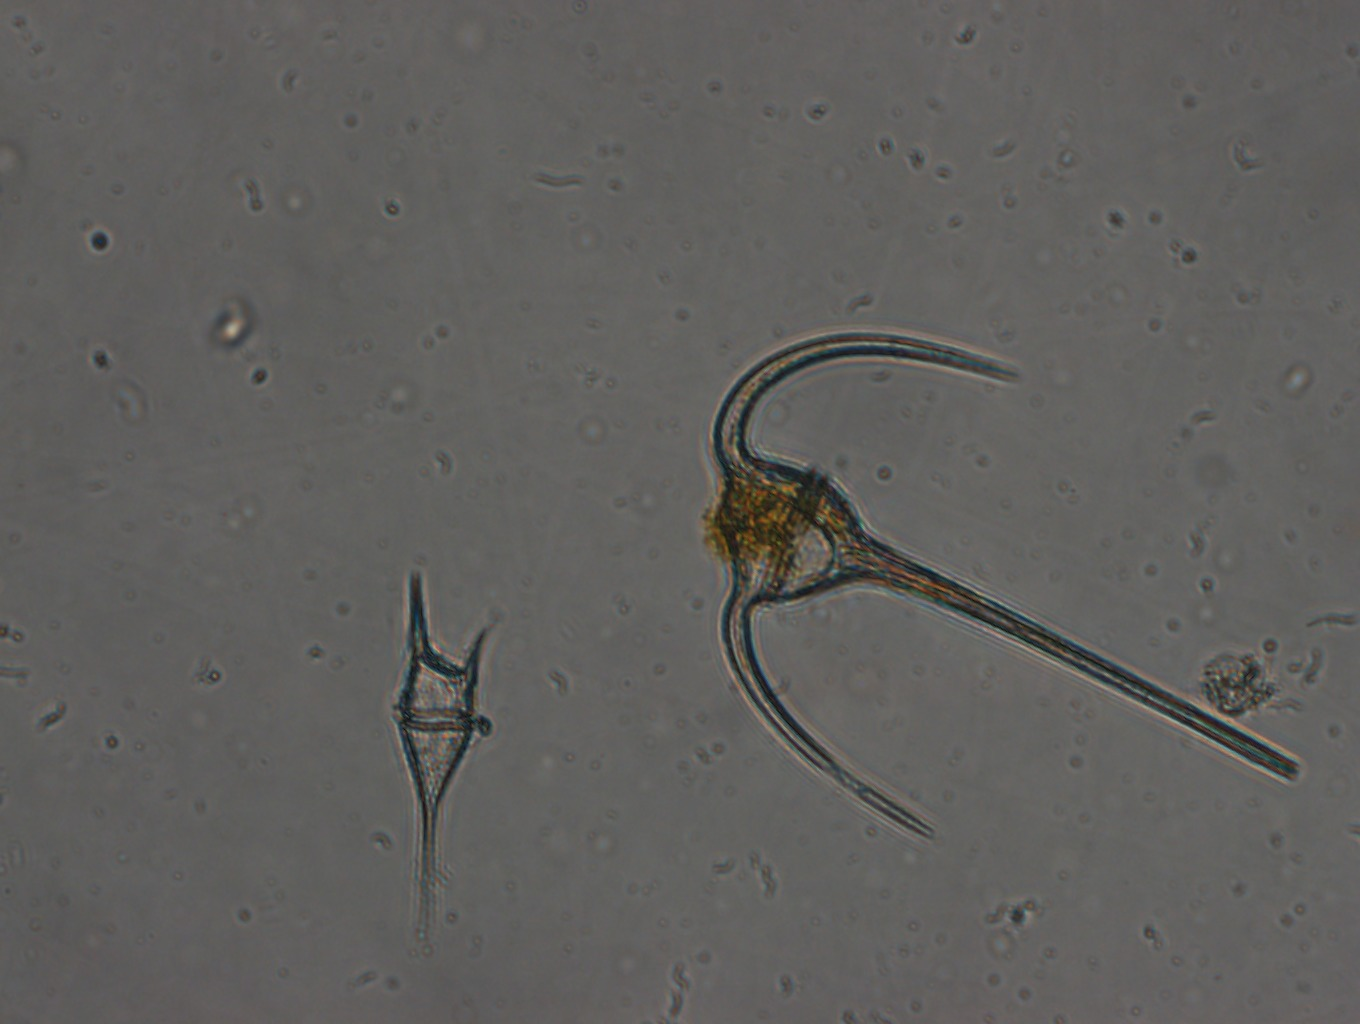ceratium furca: (383, 558, 493, 958)
ceratium trichoceros: (698, 319, 1325, 845)
